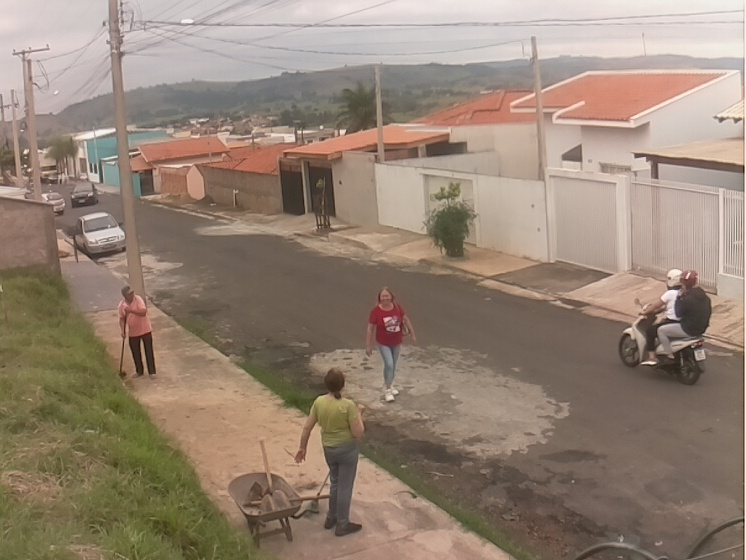person: (294, 366, 365, 536), (364, 284, 418, 404), (655, 270, 712, 358), (116, 285, 160, 382), (639, 267, 681, 364)
